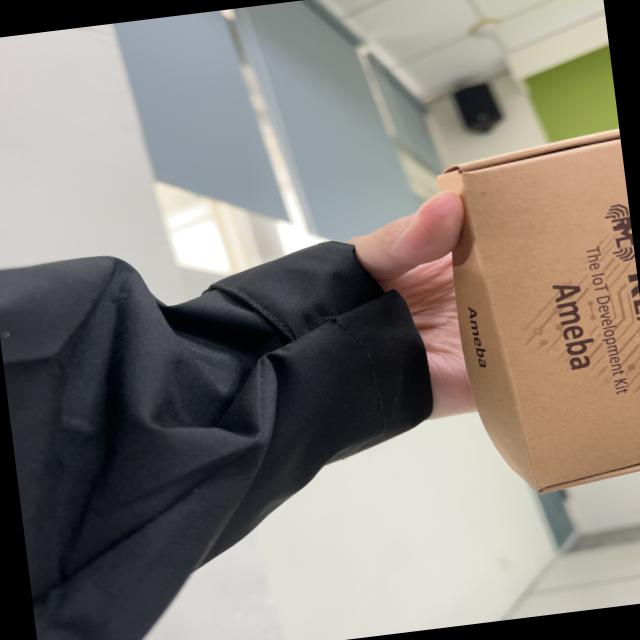box: (383, 110, 640, 531)
